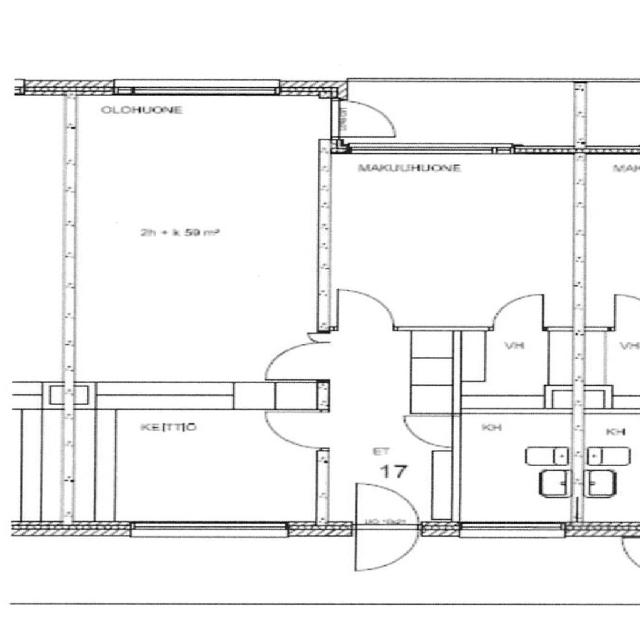door: (350, 496, 421, 578), (352, 478, 421, 532), (327, 284, 404, 332), (258, 334, 332, 383), (485, 290, 551, 334), (334, 97, 400, 139), (262, 407, 324, 449), (400, 411, 460, 449)
window: (583, 291, 640, 405), (111, 78, 283, 99), (132, 522, 290, 544), (347, 142, 518, 160), (456, 519, 569, 543)
zone: (326, 160, 576, 330), (91, 404, 326, 526), (456, 410, 574, 526), (457, 328, 574, 411), (583, 405, 640, 516), (587, 296, 640, 408)
